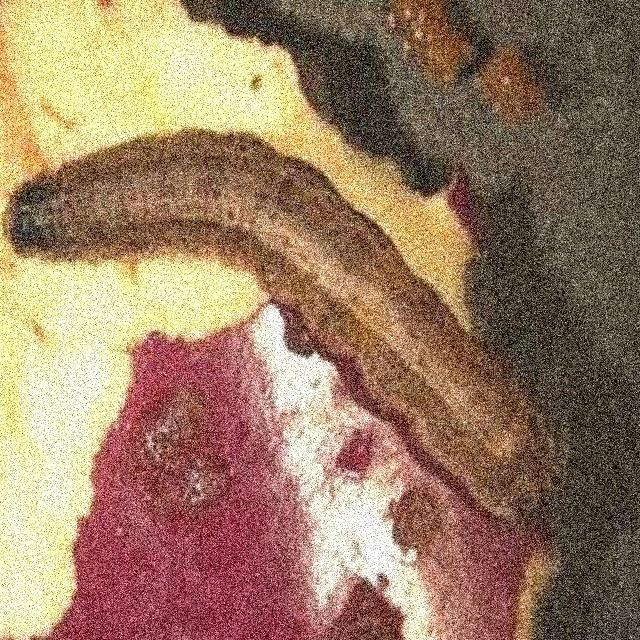Plaga: (4, 121, 561, 526)
